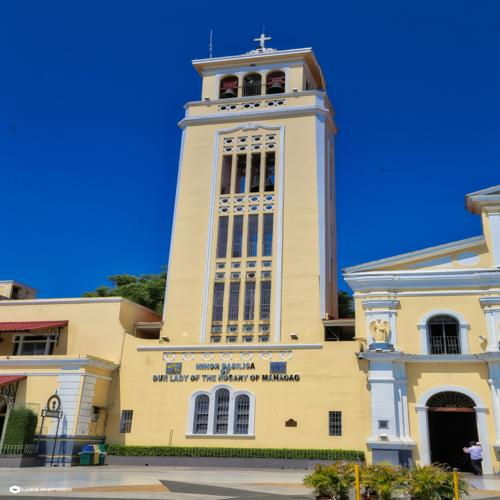Manaoag Church: (128, 20, 500, 488)
